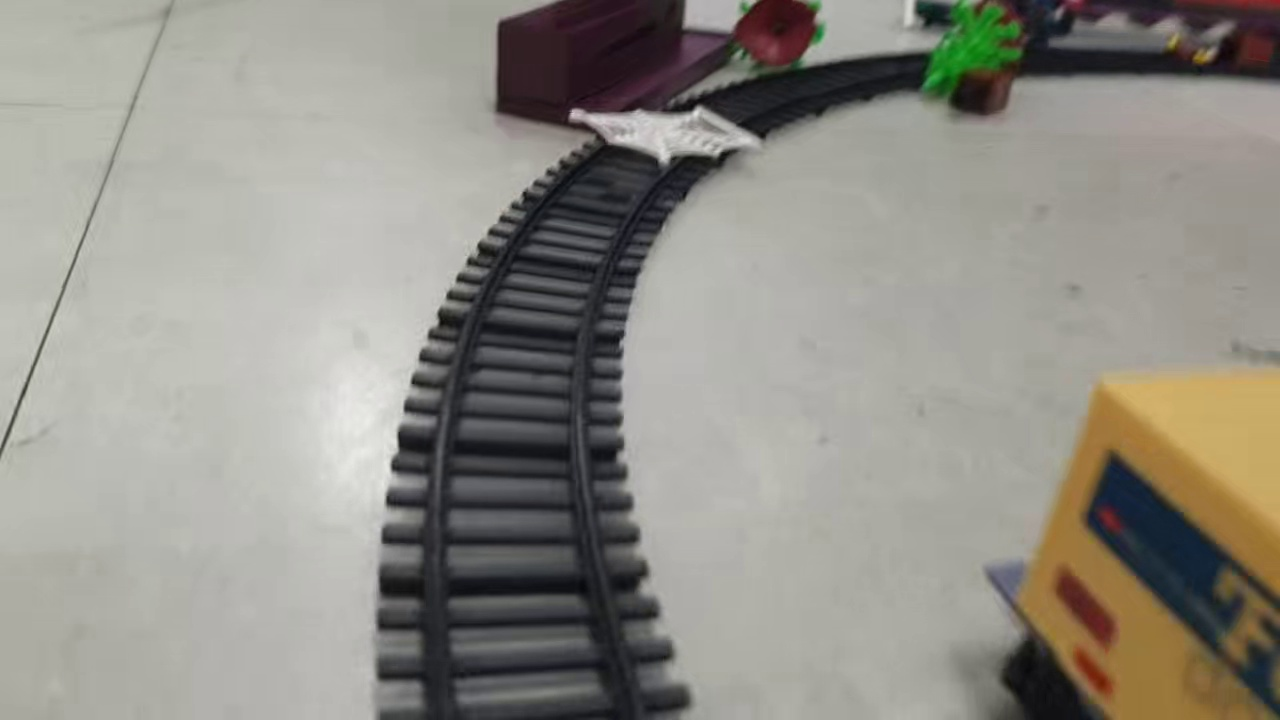box: (944, 68, 1018, 113), (1232, 30, 1280, 67)
people: (1165, 31, 1222, 68)
tree: (919, 1, 1028, 98), (731, 1, 827, 70)
web: (565, 104, 769, 170)
